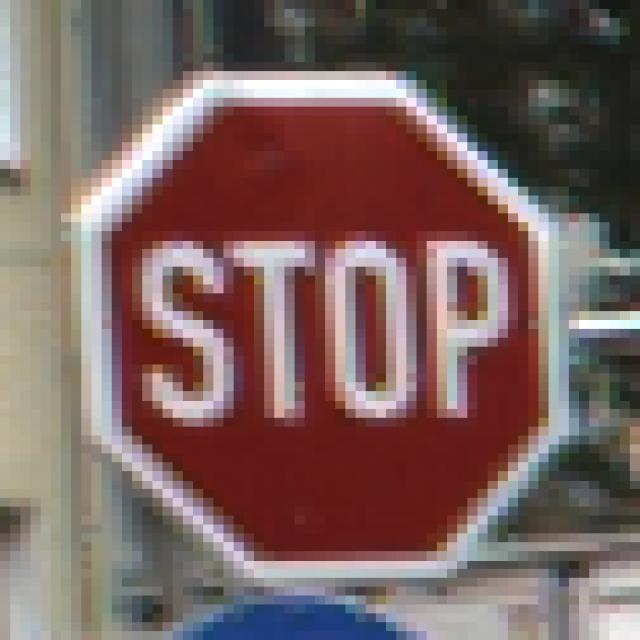STOP: (62, 54, 580, 588)
